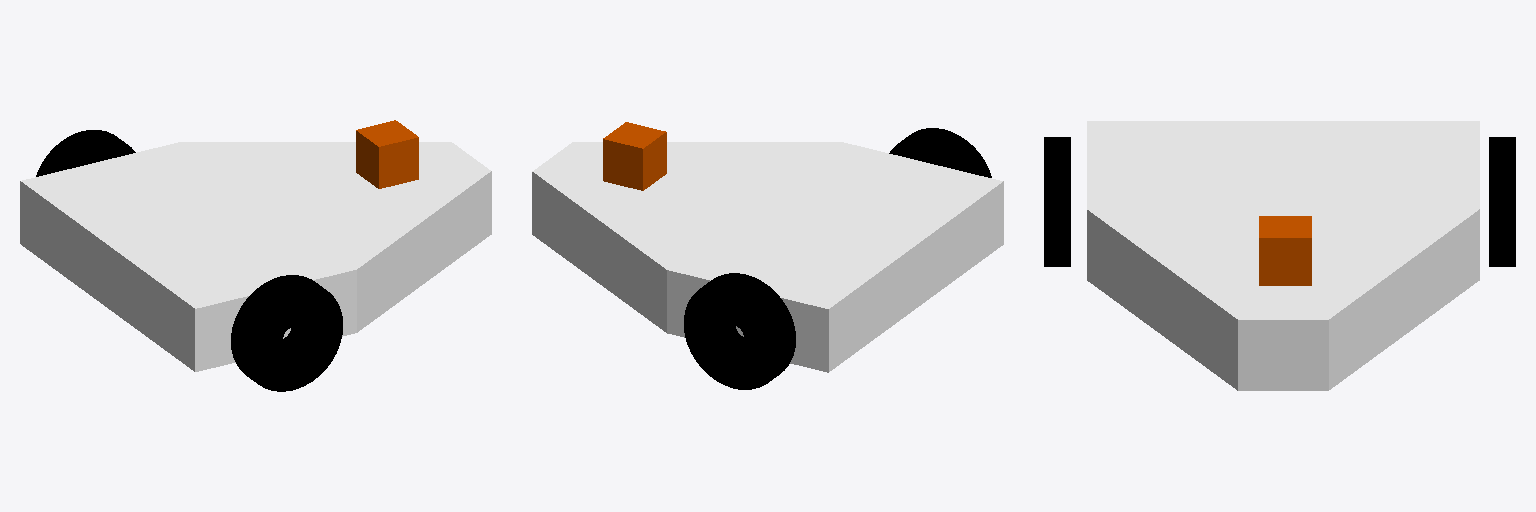
The robot description file, URDF, robot "RobotIPSA":
<?xml version="1.0" ?>
<!-- =================================================================================== -->
<!-- |    This document was autogenerated by xacro from robot.xacro                    | -->
<!-- |    EDITING THIS FILE BY HAND IS NOT RECOMMENDED                                 | -->
<!-- =================================================================================== -->
<robot name="RobotIPSA">
  <material name="black">
    <color rgba="0.0 0.0 0.0 1.0"/>
  </material>
  <material name="blue">
    <color rgba="0.0 0.0 0.8 1.0"/>
  </material>
  <material name="green">
    <color rgba="0.0 0.8 0.0 1.0"/>
  </material>
  <material name="grey">
    <color rgba="0.2 0.2 0.2 1.0"/>
  </material>
  <material name="orange">
    <color rgba="1.0 0.4235294117647059 0.0392156862745098 1.0"/>
  </material>
  <material name="brown">
    <color rgba="0.8705882352941177 0.8117647058823529 0.7647058823529411 1.0"/>
  </material>
  <material name="red">
    <color rgba="0.8 0.0 0.0 1.0"/>
  </material>
  <material name="white">
    <color rgba="1.0 1.0 1.0 1.0"/>
  </material>
  <!-- base_link -->
  <gazebo reference="base_link">
    <material>Gazebo/White</material>
  </gazebo>
  <!-- Left Wheel -->
  <gazebo reference="left_wheel">
    <mu1>0.2</mu1>
    <mu2>0.2</mu2>
    <material>Gazebo/Black</material>
  </gazebo>
  <!-- Right Wheel -->
  <gazebo reference="right_wheel">
    <mu1>0.2</mu1>
    <mu2>0.2</mu2>
    <material>Gazebo/Black</material>
  </gazebo>
  <!-- Front Wheel -->
  <gazebo reference="front_wheel">
    <mu1>0.2</mu1>
    <mu2>0.2</mu2>
    <material>Gazebo/Black</material>
  </gazebo>
  <!--camera_link -->
  <!-- <gazebo reference="raspicam">
    <mu1>0.2</mu1>
    <mu2>0.2</mu2>
    <material>Gazebo/Red</material>
  </gazebo> -->
  <!-- camera plugin-->
  <!-- <gazebo reference="raspicam">
    <sensor type="camera" name="camera1">
      <update_rate>30.0</update_rate>
      <camera name="head">
        <horizontal_fov>1.3962634</horizontal_fov>
        <image>
          <width>640</width>
          <height>480</height>
          <format>R8G8B8</format>
        </image>
        <clip>
          <near>0.02</near>
          <far>300</far>
        </clip>
        <noise>
          <type>gaussian</type>
          <mean>0.0</mean>
          <stddev>0.007</stddev>
        </noise>
      </camera>
      <plugin name="camera_controller" filename="libgazebo_ros_camera.so">
        <alwaysOn>true</alwaysOn>
        <updateRate>0.0</updateRate>
        <cameraName>raspicam_node/camera</cameraName>
        <imageTopicName>image_raw</imageTopicName>
        <cameraInfoTopicName>camera_info</cameraInfoTopicName>
        <frameName>raspicam</frameName>
        <hackBaseline>0.0</hackBaseline>
        <distortionK1>0.0</distortionK1>
        <distortionK2>0.0</distortionK2>
        <distortionK3>0.0</distortionK3>
        <distortionT1>0.0</distortionT1>
        <distortionT2>0.0</distortionT2>
        <CxPrime>0</CxPrime>
        <Cx>0.0</Cx>
        <Cy>0.0</Cy>
        <focalLength>0.0</focalLength>
      </plugin>
    </sensor>
  </gazebo> -->
  <gazebo>
    <plugin filename="libgazebo_ros_planar_move.so" name="object_controller">
      <commandTopic>cmd_vel</commandTopic>
      <odometryTopic>odom</odometryTopic>
      <odometryFrame>odom</odometryFrame>
      <odometryRate>5.0</odometryRate>
      <robotBaseFrame>base_footprint</robotBaseFrame>
    </plugin>
  </gazebo>
  <!-- <gazebo reference="hokuyo_link">
		<sensor type="ray" name="laser">
			<pose>0 0 0 0 0 0 </pose>
			<visualize>True</visualize>
			<update_rate>40</update_rate>
			<ray>
				<scan>
					<horizontal>
						<samples>720</samples>
						<resolution>1</resolution>
						<min_angle>-1.570796</min_angle>
						<max_angle>1.570796</max_angle>
					</horizontal>
				</scan>
				<range>
					<min>0.10</min>
					<max>30</max>
					<resolution>0.01</resolution>
				</range>
				<noise>
					<type>gaussian</type>
					<mean>0.0</mean>
					<stddev>0.01</stddev>
				</noise>
			</ray>

			<plugin name="ros_hokuyo_controller" filename="libgazebo_ros_laser.so">
				<topicName>scan</topicName>
				<frameName>hokuyo_link</frameName>
			</plugin>
		</sensor>
	</gazebo> -->
  <gazebo reference="base_sonar_front">
    <sensor name="TeraRanger" type="ray">
      <pose>0 0 0 0 0 0</pose>
      <visualize>true</visualize>
      <update_rate>5</update_rate>
      <ray>
        <!--Add noise
        <noise>
          <type>gaussian</type>
          <mean>0.0</mean>
          <stddev>1.0</stddev>
        </noise>
      -->
        <scan>
          <horizontal>
            <samples>10</samples>
            <resolution>1</resolution>
            <min_angle>-0.14835</min_angle>
            <max_angle>0.14835</max_angle>
          </horizontal>
          <vertical>
            <samples>10</samples>
            <resolution>1</resolution>
            <min_angle>-0.05</min_angle>
            <max_angle>0.14835</max_angle>
          </vertical>
        </scan>
        <range>
          <min>0.01</min>
          <max>5</max>
          <resolution>0.02</resolution>
        </range>
      </ray>
      <plugin filename="libgazebo_ros_range.so" name="gazebo_ros_range">
        <gaussianNoise>0.05</gaussianNoise>
        <alwaysOn>true</alwaysOn>
        <updateRate>5</updateRate>
        <topicName>sensor/sonar_front</topicName>
        <frameName>base_sonar_front</frameName>
        <radiation>INFRARED</radiation>
        <fov>0.2967</fov>
      </plugin>
    </sensor>
  </gazebo>
  <link name="base_footprint"/>
  <link name="base_link">
    <visual>
      <geometry>
        <mesh filename="package://multi_robot/models/mobile_robot/two_wheels/meshes/base.STL" scale="5 5 5"/>
      </geometry>
      <origin rpy="0 0 3.141592653589793" xyz="0.035 0 0.2"/>
      <material name="white"/>
    </visual>
    <collision>
      <geometry>
        <box size="0.45 0.1 0.2"/>
      </geometry>
      <origin rpy="0 0 0" xyz="0 0 0.13333333333333333"/>
    </collision>
    <inertial>
      <mass value="3.0"/>
      <inertia ixx="1.0" ixy="0.0" ixz="0.0" iyy="1.0" iyz="0.0" izz="1.0"/>
    </inertial>
  </link>
  <joint name="base_footprint_to_base_link" type="fixed">
    <parent link="base_footprint"/>
    <child link="base_link"/>
    <origin rpy="0 0 -1.5707963267948966"/>
  </joint>
  <link name="right_wheel">
    <visual>
      <geometry>
        <mesh filename="package://multi_robot/models/mobile_robot/two_wheels/meshes/roueAr.STL" scale="5 5 5"/>
      </geometry>
      <material name="black"/>
    </visual>
    <collision>
      <geometry>
        <sphere radius="0.12"/>
      </geometry>
      <origin rpy="0 0 0" xyz="0 0 0"/>
    </collision>
    <inertial>
      <mass value="1"/>
      <inertia ixx="1.0" ixy="0.0" ixz="0.0" iyy="1.0" iyz="0.0" izz="1.0"/>
    </inertial>
  </link>
  <joint name="base_to_right_wheel" type="fixed">
    <parent link="base_link"/>
    <child link="right_wheel"/>
    <origin rpy="0 1.5707963267948966 0" xyz="0.410625 0 0.12"/>
    <axis xyz="0 5 0"/>
  </joint>
  <link name="left_wheel">
    <visual>
      <geometry>
        <mesh filename="package://multi_robot/models/mobile_robot/two_wheels/meshes/roueAr.STL" scale="5 5 5"/>
      </geometry>
      <material name="black"/>
    </visual>
    <collision>
      <geometry>
        <sphere radius="0.12"/>
      </geometry>
      <origin rpy="0 0 0" xyz="0 0 0"/>
    </collision>
    <inertial>
      <mass value="1"/>
      <inertia ixx="1.0" ixy="0.0" ixz="0.0" iyy="1.0" iyz="0.0" izz="1.0"/>
    </inertial>
  </link>
  <joint name="base_to_left_wheel" type="fixed">
    <parent link="base_link"/>
    <child link="left_wheel"/>
    <origin rpy="0 1.5707963267948966 0" xyz="-0.439875 0 0.12"/>
    <axis xyz="0 5 0"/>
  </joint>
  <link name="front_wheel">
    <visual>
      <geometry>
        <mesh filename="package://multi_robot/models/mobile_robot/two_wheels/meshes/roueAv.STL" scale="5 5 5"/>
      </geometry>
      <origin xyz="0.05 0 0"/>
      <!-- -0.05 -->
      <material name="black"/>
    </visual>
    <collision>
      <geometry>
        <sphere radius="0.12"/>
      </geometry>
      <origin rpy="0 0 0" xyz="0 0 0"/>
    </collision>
    <inertial>
      <mass value="1"/>
      <inertia ixx="1.0" ixy="0.0" ixz="0.0" iyy="1.0" iyz="0.0" izz="1.0"/>
    </inertial>
  </link>
  <joint name="base_link_to_front_wheel" type="fixed">
    <parent link="base_link"/>
    <child link="front_wheel"/>
    <origin rpy="0 1.5707963267948966 0" xyz="0 0.52 0.12"/>
    <axis xyz="0 1 0"/>
  </joint>
  <joint name="sonar_front_joint" type="fixed">
    <axis xyz="0 1 0"/>
    <origin rpy="0 0 0" xyz="0.5 0 0.25"/>
    <parent link="base_footprint"/>
    <child link="base_sonar_front"/>
  </joint>
  <link name="base_sonar_front">
    <!-- <collision>
        <origin xyz="0 0 0" rpy="0 0 0"/>
        <geometry>
          <box size="0.5 0.5 0.5"/>
        </geometry>
      </collision> -->
    <visual>
      <origin rpy="0 0 0" xyz="0 0 0"/>
      <geometry>
        <box size="0.1 0.1 0.1"/>
      </geometry>
    </visual>
    <!-- <inertial>
        <mass value="1e-5" />
        <origin xyz="0 0 0" rpy="0 0 0"/>
        <inertia ixx="1e-6" ixy="0" ixz="0" iyy="1e-6" iyz="0" izz="1e-6" />
      </inertial> -->
  </link>
</robot>

--- Facts derived from the render (not from the file) ---
3 views of the same robot in one strip: view 1: azimuth 30°, elevation 25°; view 2: azimuth 150°, elevation 25°; view 3: azimuth 270°, elevation 25° (orthographic).
Model RobotIPSA with 6 links and 5 joints (5 fixed), rooted at base_footprint, posed all joints at 0.
Visible links, largest first — view 1: base_link, right_wheel, base_sonar_front, left_wheel; view 2: base_link, left_wheel, base_sonar_front, right_wheel; view 3: base_link, base_sonar_front, right_wheel, left_wheel.
Link boxes in pixels (x1,y1,x2,y2): base_link: (20,142,491,371); right_wheel: (231,275,342,391); base_sonar_front: (356,120,418,188); left_wheel: (36,130,135,176); base_link: (532,142,1003,372); left_wheel: (684,273,795,389); base_sonar_front: (603,122,666,190); right_wheel: (889,128,991,177); base_link: (1087,121,1479,390); base_sonar_front: (1259,216,1311,285); right_wheel: (1044,137,1070,266); left_wheel: (1489,137,1515,266).
Bounding box of the posed robot: 0.8995 × 0.9005 × 0.305 m (x, y, z).
Meshes: 3 distinct files referenced, 4 mesh visuals loaded (3 binary STL).
